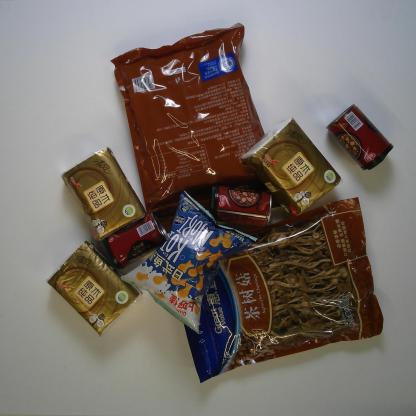Canned Food: (326, 102, 394, 176), (100, 210, 171, 272), (206, 180, 274, 230)
Dried Food: (170, 192, 384, 384), (108, 20, 281, 214)
Puffed Food: (118, 186, 261, 334)
Tissue: (241, 116, 343, 220), (44, 239, 144, 337), (60, 146, 148, 247)
